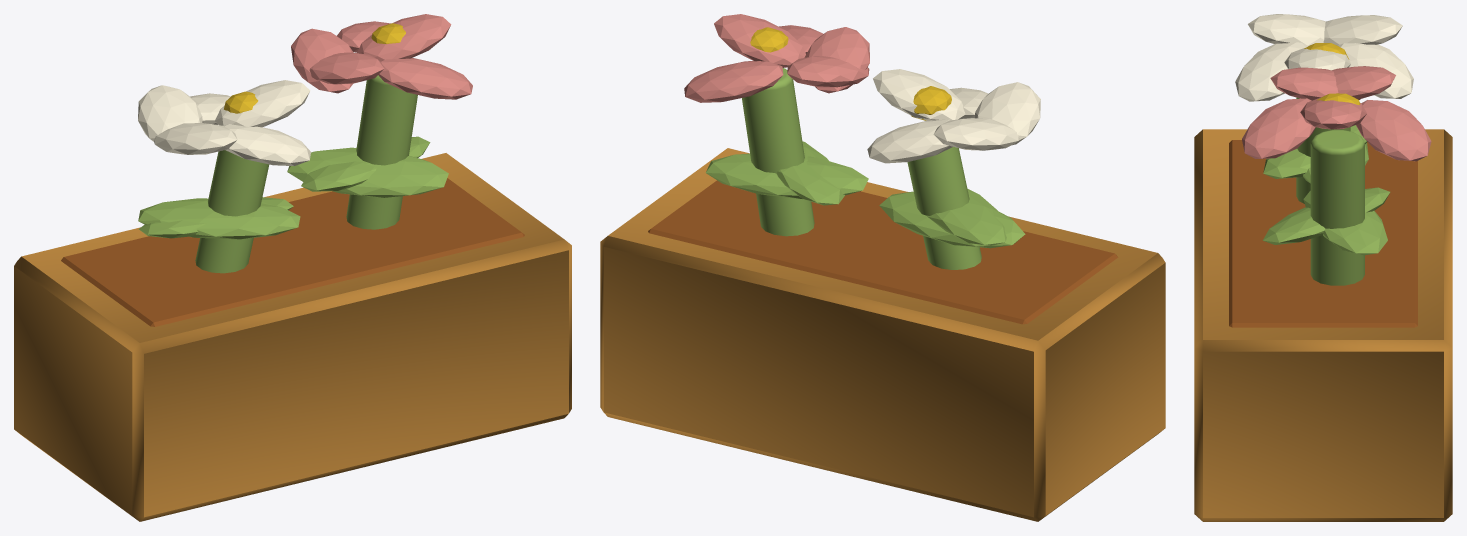
The model's file is prop_planter.glb.
3 renders of one model, left to right at view 1: azimuth 30°, elevation 25°; view 2: azimuth 150°, elevation 25°; view 3: azimuth 270°, elevation 25°, orthographic.
Parts seen in each view (by area): view 1: pl_box, pl_soil, plf2_stem, plf_stem, plf_leaf1, plf2_leaf0, plf2_petal2, plf_petal0, plf_petal2, plf_petal1, plf2_petal0, plf_petal4 (+6 smaller); view 2: pl_box, pl_soil, plf2_stem, plf_stem, plf2_leaf1, plf2_petal3, plf_petal4, plf_leaf0, plf2_petal0, plf_petal3, plf_leaf1, plf_petal0 (+6 smaller); view 3: pl_box, pl_soil, plf2_stem, plf2_petal3, plf2_petal2, plf_petal2, plf_petal1, plf_petal4, plf_petal3, plf2_leaf0, plf2_leaf1, plf2_petal4 (+5 smaller).
Part boxes in pixels (x1=…): pl_box: x1=14, y1=153, x2=571, y2=521; pl_soil: x1=61, y1=178, x2=524, y2=326; plf2_stem: x1=346, y1=75, x2=417, y2=229; plf_stem: x1=195, y1=150, x2=269, y2=273; plf_leaf1: x1=138, y1=198, x2=300, y2=239; plf2_leaf0: x1=287, y1=147, x2=448, y2=197; plf2_petal2: x1=378, y1=58, x2=472, y2=99; plf_petal0: x1=215, y1=80, x2=310, y2=127; plf_petal2: x1=224, y1=124, x2=310, y2=166; plf_petal1: x1=138, y1=85, x2=202, y2=141; plf2_petal0: x1=357, y1=14, x2=451, y2=61; plf_petal4: x1=154, y1=123, x2=237, y2=154; pl_box: x1=600, y1=148, x2=1165, y2=521; pl_soil: x1=648, y1=180, x2=1117, y2=324; plf2_stem: x1=742, y1=68, x2=814, y2=236; plf_stem: x1=907, y1=147, x2=981, y2=269; plf2_leaf1: x1=705, y1=153, x2=868, y2=198; plf2_petal3: x1=684, y1=61, x2=783, y2=102; plf_petal4: x1=975, y1=82, x2=1040, y2=145; plf_leaf0: x1=879, y1=191, x2=1025, y2=248; plf2_petal0: x1=714, y1=14, x2=805, y2=67; plf_petal3: x1=867, y1=119, x2=952, y2=163; plf_leaf1: x1=927, y1=188, x2=1006, y2=245; plf_petal0: x1=873, y1=69, x2=965, y2=120; pl_box: x1=1194, y1=129, x2=1452, y2=521; pl_soil: x1=1229, y1=140, x2=1417, y2=327; plf2_stem: x1=1310, y1=130, x2=1364, y2=285; plf2_petal3: x1=1356, y1=100, x2=1431, y2=161; plf2_petal2: x1=1242, y1=98, x2=1315, y2=158; plf_petal2: x1=1235, y1=42, x2=1308, y2=101; plf_petal1: x1=1323, y1=15, x2=1402, y2=45; plf_petal4: x1=1248, y1=14, x2=1325, y2=45; plf_petal3: x1=1338, y1=43, x2=1413, y2=98; plf2_leaf0: x1=1263, y1=187, x2=1390, y2=244; plf2_leaf1: x1=1303, y1=190, x2=1387, y2=255; plf2_petal4: x1=1270, y1=67, x2=1360, y2=100.
Size of the model in its own units: 0.72 by 0.5798 by 0.36.
